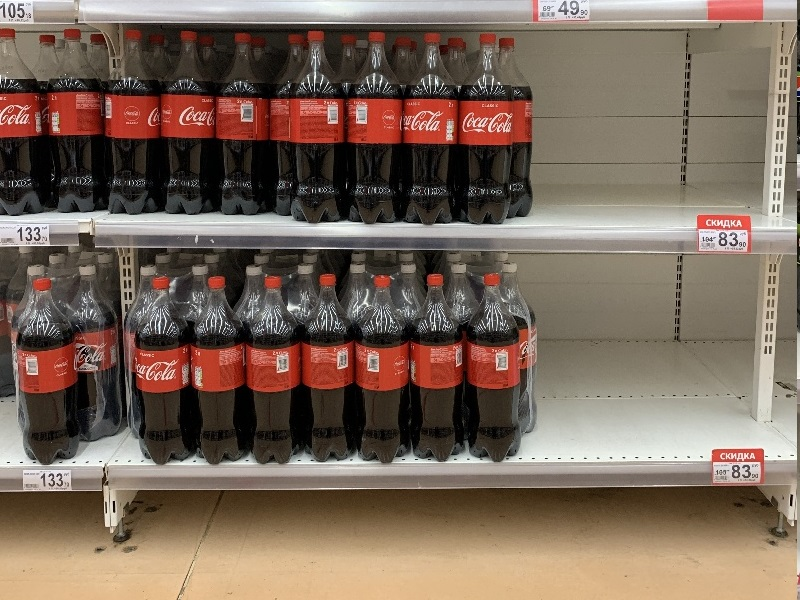lemonade: (390, 26, 466, 227), (124, 277, 200, 471), (450, 28, 519, 232), (340, 30, 410, 230), (292, 273, 364, 467), (403, 273, 474, 467), (186, 276, 257, 468), (237, 272, 305, 468), (206, 29, 274, 223), (348, 273, 415, 468), (463, 272, 527, 467), (287, 27, 348, 231), (45, 25, 108, 220), (17, 277, 82, 466), (99, 27, 161, 224), (158, 29, 222, 219), (1, 29, 54, 216)
